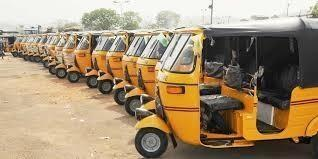keke: (129, 20, 315, 158)
